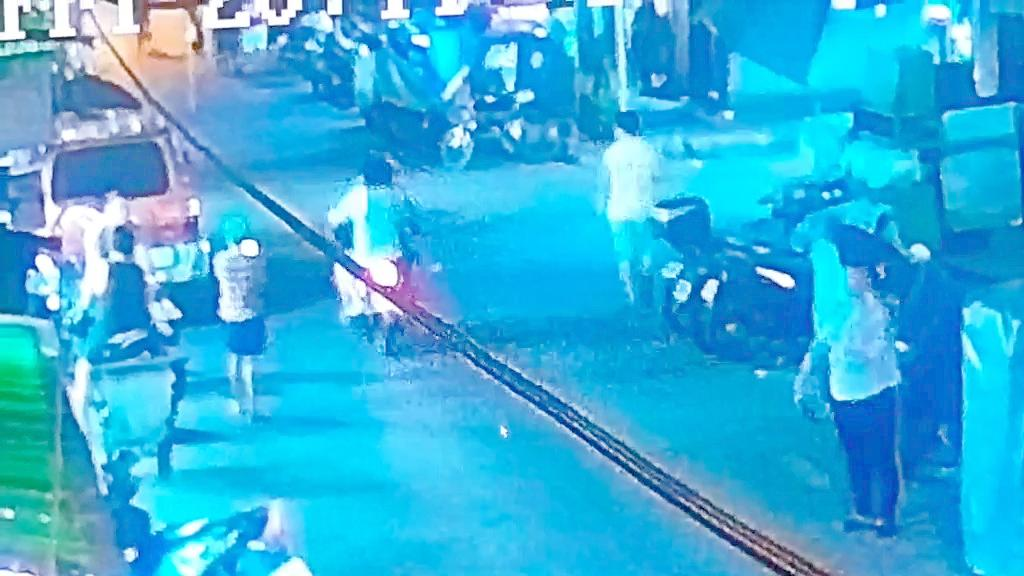Car: (43, 105, 230, 309)
Motor: (643, 167, 876, 377), (328, 131, 458, 390), (342, 7, 536, 177)
